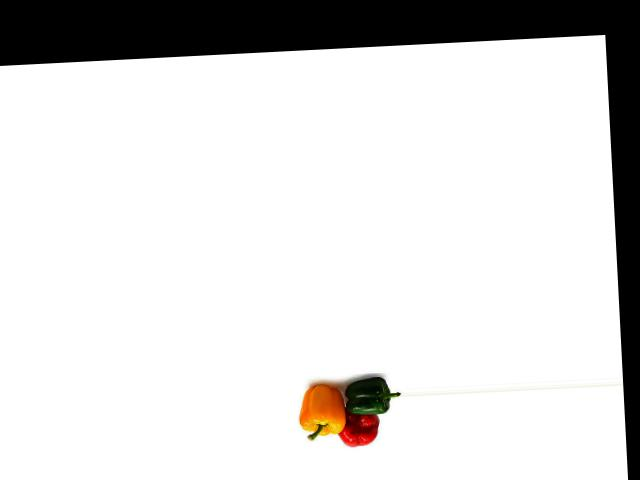bell_pepper: (334, 375, 397, 421)
